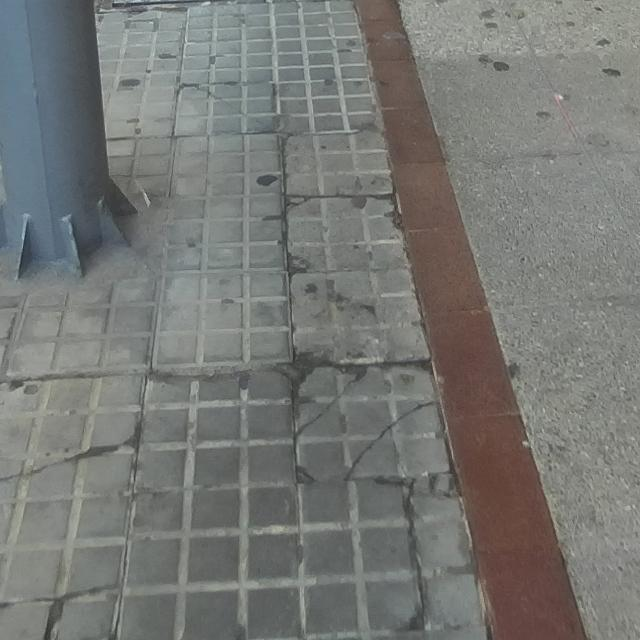calcada_quebrada: (388, 477, 459, 640), (0, 428, 139, 499), (341, 401, 447, 481), (0, 581, 118, 640), (176, 81, 271, 132), (292, 398, 338, 446), (340, 363, 385, 400), (275, 130, 299, 169)
